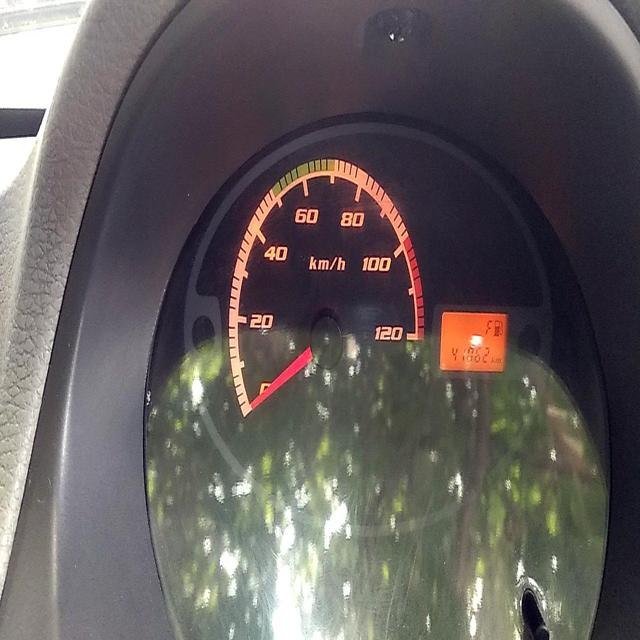odometer: (450, 344, 491, 364)
